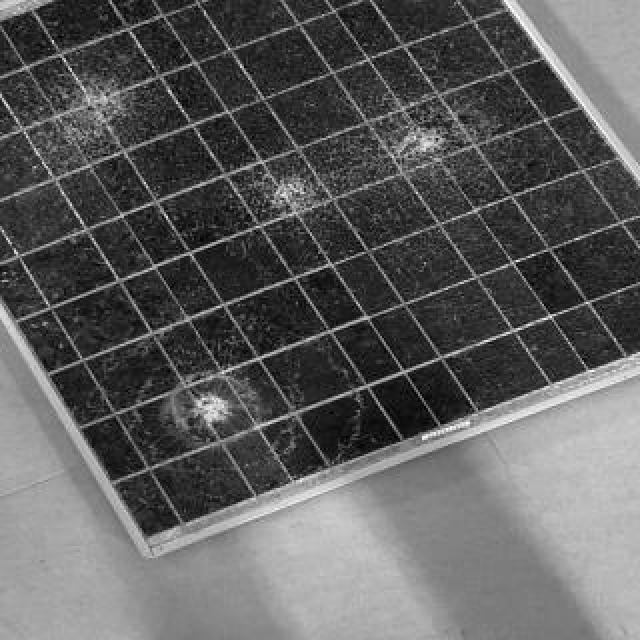Dusty: (178, 373, 271, 455), (252, 163, 332, 237), (70, 91, 136, 160), (403, 110, 471, 174)
